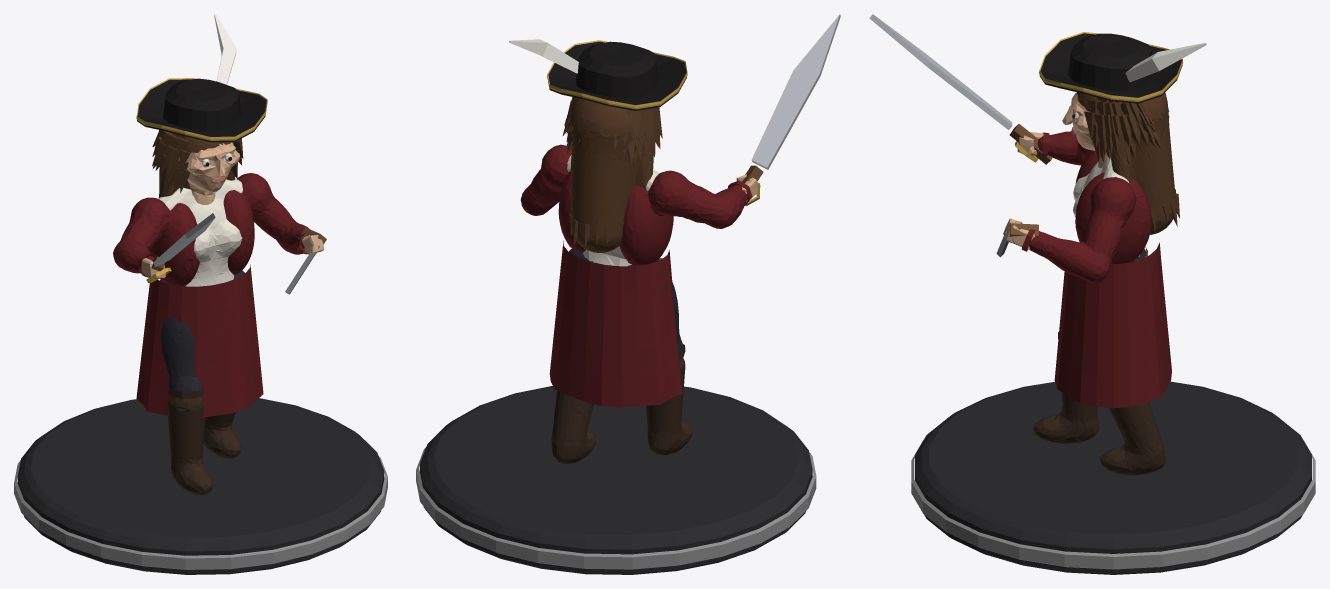
File: pirate_captain.glb
3 renders of one model, left to right at view 1: azimuth 30°, elevation 25°; view 2: azimuth 150°, elevation 25°; view 3: azimuth 270°, elevation 25°, orthographic. The views are drawn at different scales.
Visible parts, largest first — view 1: pirate_captain; view 2: pirate_captain; view 3: pirate_captain.
Part boxes in pixels (box(x1,y1,x2,y2)): pirate_captain: box(14, 14, 387, 574); pirate_captain: box(416, 14, 840, 574); pirate_captain: box(869, 14, 1315, 574).
Size of the model in its own units: 0.856 by 1.11 by 0.9382.
